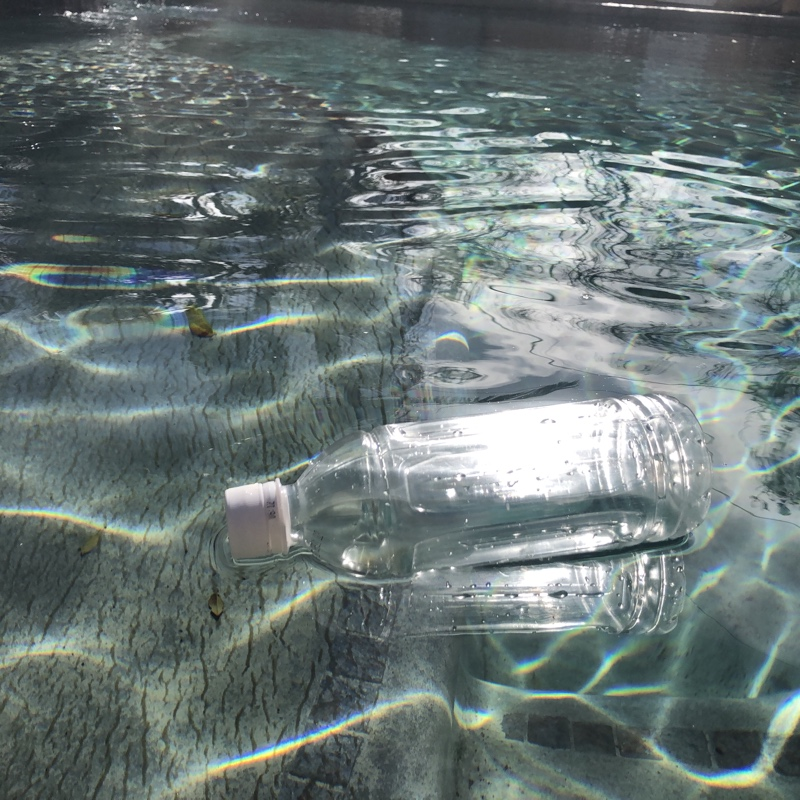Plastic Bottle: (219, 390, 723, 584)
